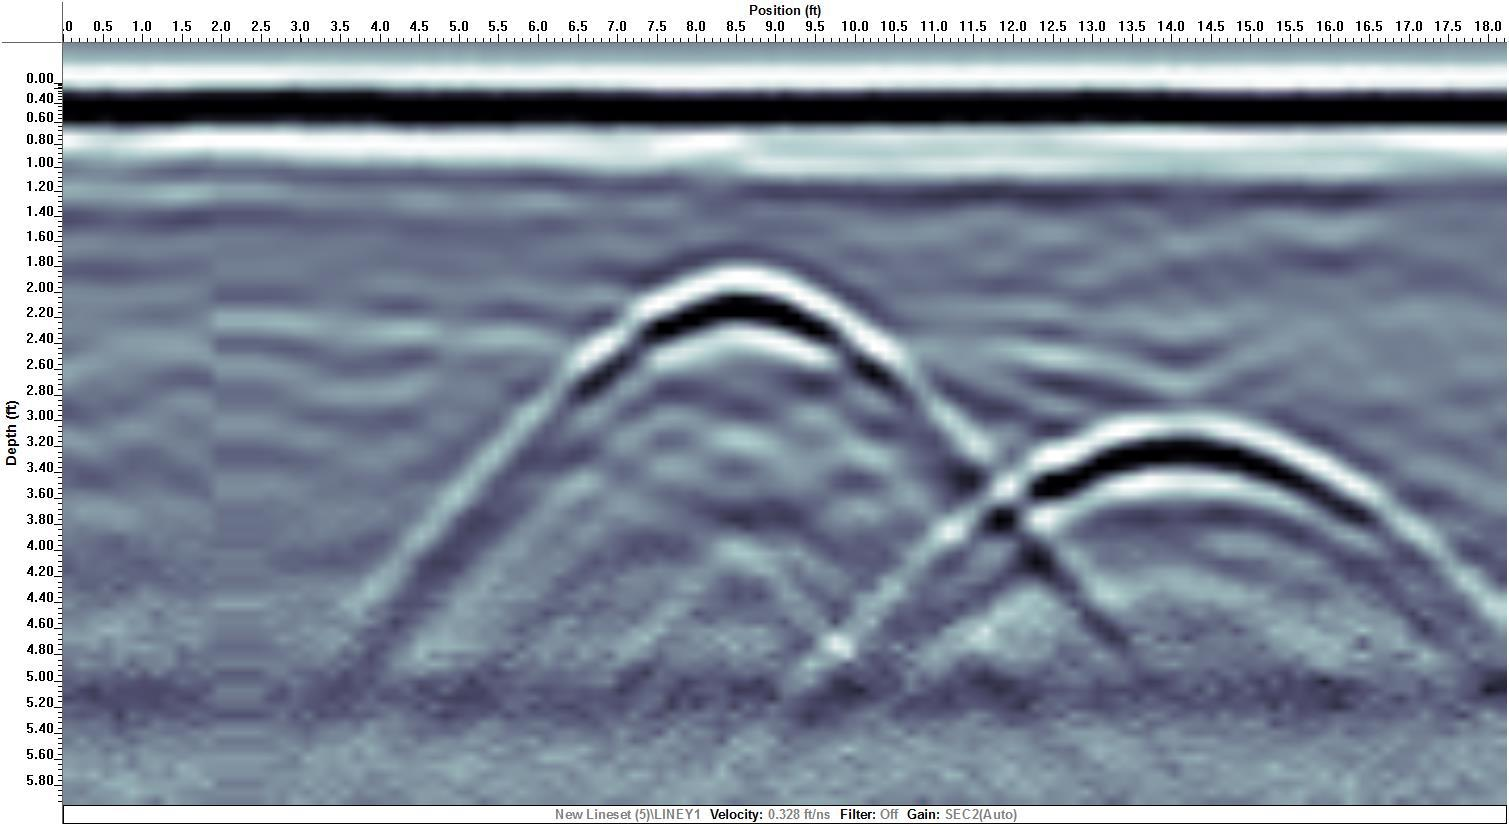hyperbola: (951, 390, 1466, 619), (497, 237, 992, 454)
